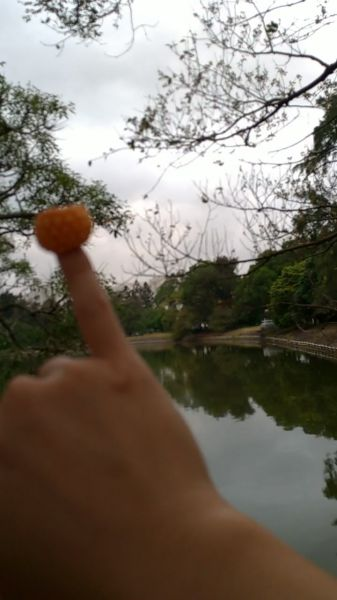eggs: (37, 206, 91, 251)
